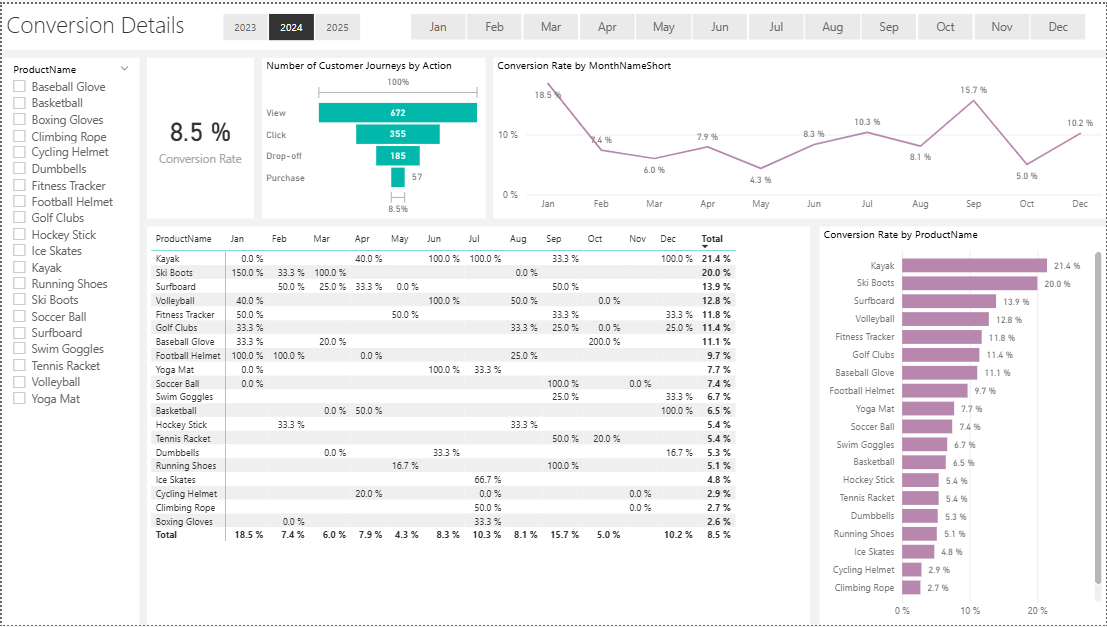

The page's visual inventory and layout, read from the dashboard file:
{"tool":"powerbi","page":{"name":"Conversion Details","canvas":[1280,720],"ordinal":1},"visuals":[{"type":"textbox","box":[0,0,1280,52.6],"z":0},{"type":"slicer","fields":{"Values":["dim_products.ProductName"]},"box":[0,61.9,159.4,658.4],"z":1000},{"type":"card","fields":{"Values":["_Calculations.Conversion Rate"]},"box":[168.5,61.9,123.8,186.7],"z":2000},{"type":"lineChart","fields":{"Y":["_Calculations.Conversion Rate"],"Category":["Calendar.MonthNameShort"]},"box":[570.1,61.9,710.3,186.7],"z":3000},{"type":"clusteredBarChart","fields":{"Category":["dim_products.ProductName"],"Y":["_Calculations.Conversion Rate"]},"box":[948,257.7,332.4,462.6],"z":4000},{"type":"slicer","fields":{"Values":["Calendar.Year"]},"box":[230.2,4.1,208.5,44.4],"z":5000},{"type":"slicer","fields":{"Values":["Calendar.MonthNameShort"]},"box":[448,4.6,832.3,43.7],"z":6000},{"type":"pivotTable","fields":{"Rows":["dim_products.ProductName"],"Values":["_Calculations.Conversion Rate"],"Columns":["Calendar.MonthNameShort"]},"box":[168.5,257.7,768.6,462.6],"z":7000},{"type":"funnel","fields":{"Category":["fact_customer_journey.Action"],"Y":["_Calculations.Number of Customer Journeys"]},"box":[301.4,61.9,259.5,186.7],"z":8000}]}

Visuals, with their boxes in screenshot pixels (x1, y1, x2, y2), scaled from the page's 1280x720 canvas onto the 1107x627 screenshot:
textbox: 0,0,1106,46
slicer - dim_products.ProductName: 0,54,138,626
card - _Calculations.Conversion Rate: 146,54,253,216
lineChart - _Calculations.Conversion Rate x Calendar.MonthNameShort: 493,54,1106,216
clusteredBarChart - dim_products.ProductName x _Calculations.Conversion Rate: 820,224,1106,626
slicer - Calendar.Year: 199,4,379,42
slicer - Calendar.MonthNameShort: 387,4,1106,42
pivotTable - dim_products.ProductName x _Calculations.Conversion Rate: 146,224,810,626
funnel - fact_customer_journey.Action x _Calculations.Number of Customer Journeys: 261,54,485,216
